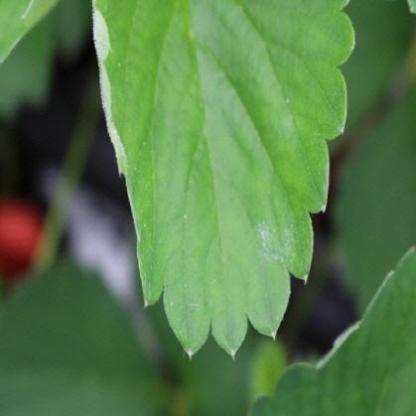Strawberry_Powdery_Mildew_Leaf: (91, 0, 358, 364)
